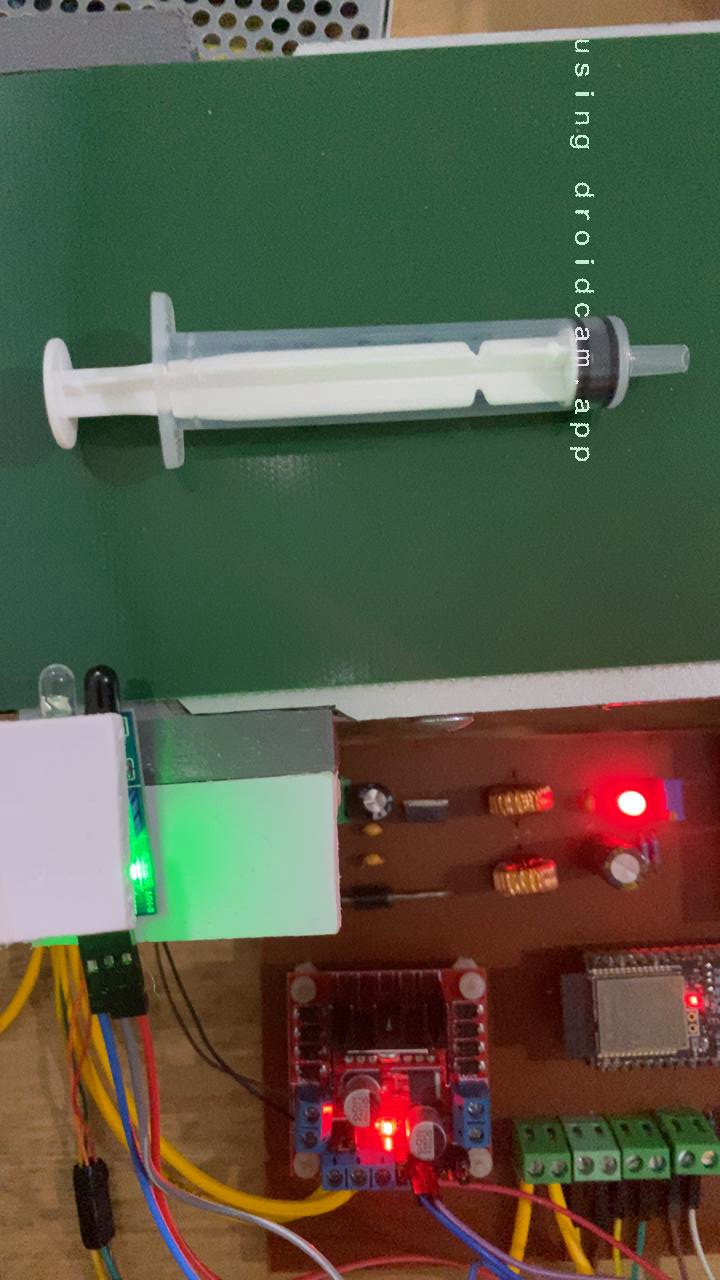syringe: (35, 286, 696, 477)
